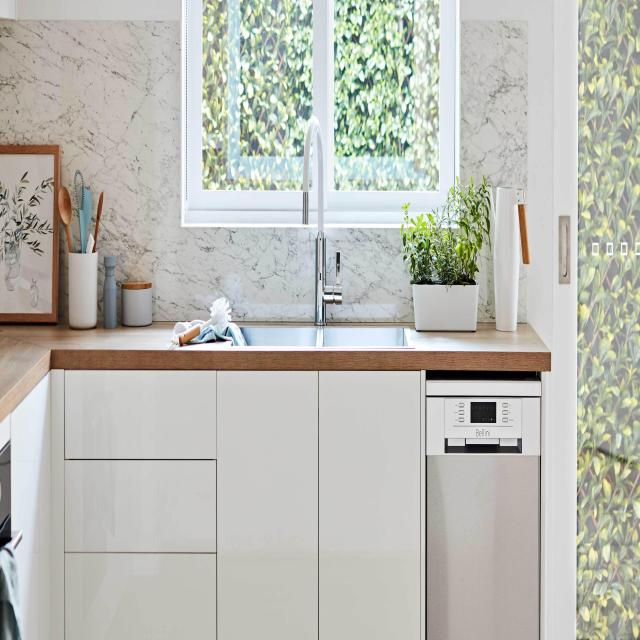dishwasher: (399, 302, 565, 640)
